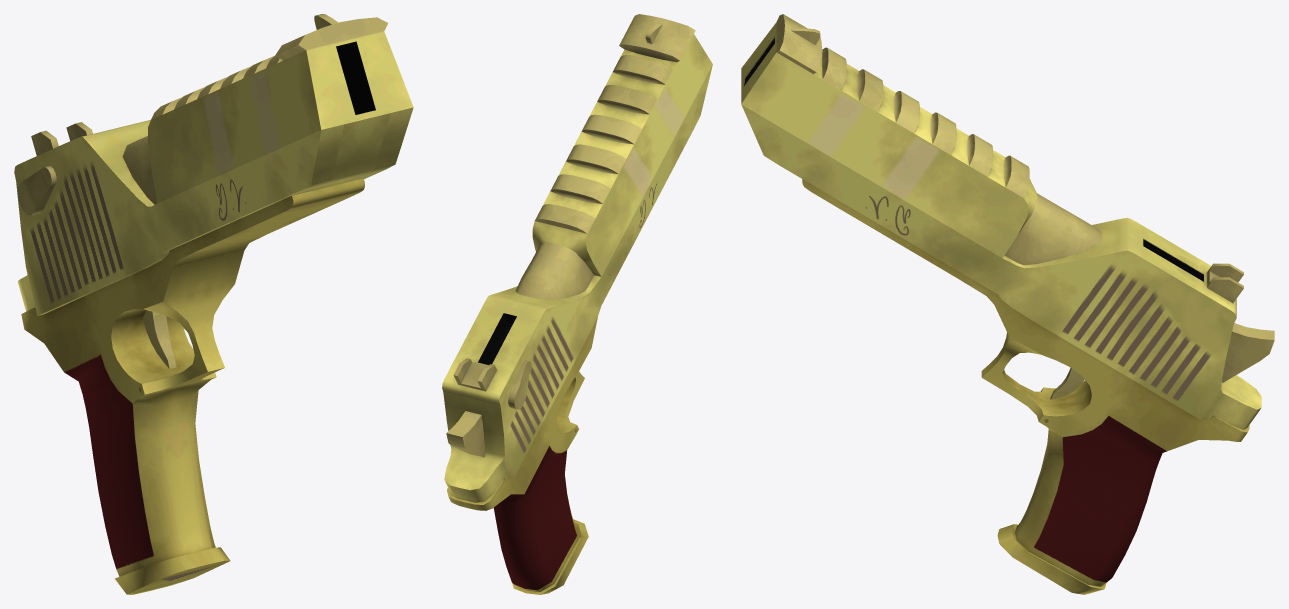
The model's file is mdlGoldenGunPickup Variant.fbx.
3 renders of one model, left to right at view 1: azimuth 30°, elevation 25°; view 2: azimuth 150°, elevation 25°; view 3: azimuth 270°, elevation 25°, orthographic. The views are drawn at different scales.
Parts seen in each view (by area): view 1: Model; view 2: Model; view 3: Model.
Boxes of the visible parts, left/top/right/bottom form: Model: left=14, top=14, right=413, bottom=594; Model: left=442, top=14, right=712, bottom=594; Model: left=741, top=14, right=1274, bottom=594.
Bounding box in the file's own units: 0.6448 × 4.46 × 3.83.
